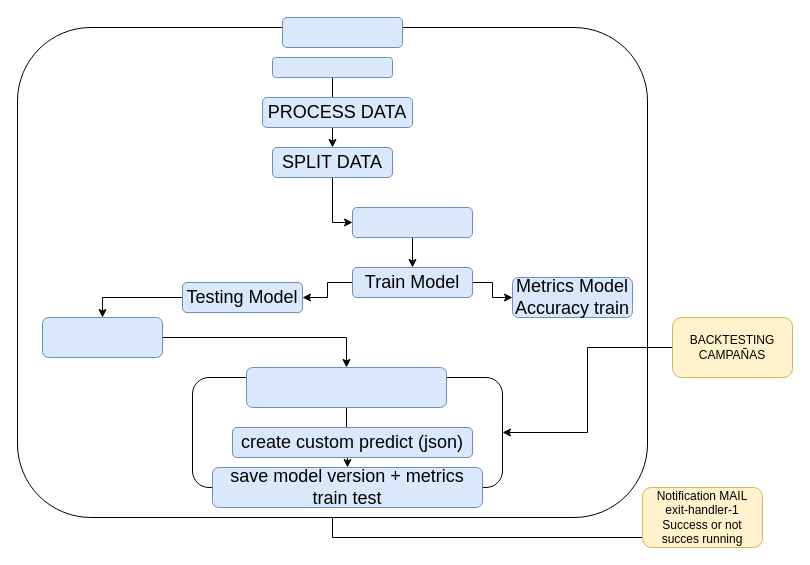
Some shapes in this 810 by 565 pixel diagram are drawn without their labels. The shapes that lost their labels are listed below. From the top down, each one's centre as x and y in pixels, then its label:
At (342,32): "exit-handler-1".
At (332,67): "GET DATA".
At (412,222): "data train".
At (102,337): "Metrics Model Accuracy test".
At (346,387): "model upload condition accuracy > 0.95".
